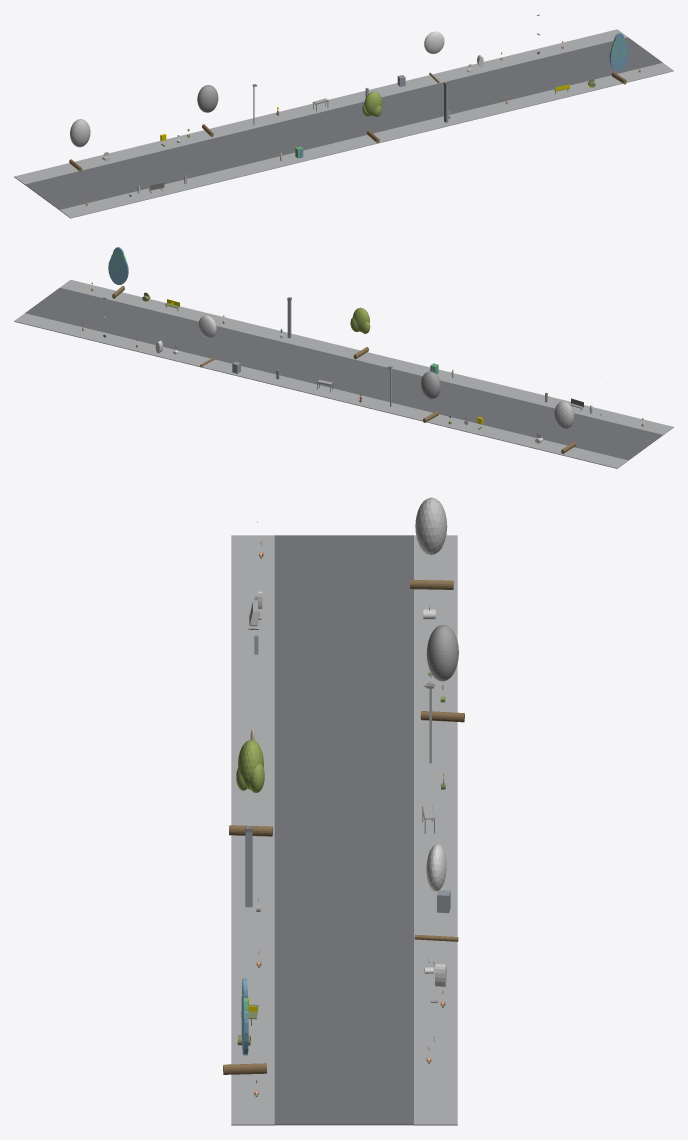
3 renders of one model, top to bottom at view 1: azimuth 30°, elevation 25°; view 2: azimuth 150°, elevation 25°; view 3: azimuth 270°, elevation 25°, orthographic. The views are drawn at different scales.
Parts seen in each view (by area): view 1: road_slab, sidewalk_left, sidewalk_right, inst_0016, inst_0013, inst_0012, inst_0014, inst_0015; view 2: road_slab, sidewalk_right, sidewalk_left, inst_0016, inst_0012, inst_0013, inst_0014, inst_0015; view 3: road_slab, sidewalk_left, sidewalk_right, inst_0012, inst_0013, inst_0014, inst_0016, inst_0015.
Part boxes in pixels (x1=…): road_slab: x1=25, y1=37, x2=662, y2=209; sidewalk_left: x1=59, y1=63, x2=673, y2=218; sidewalk_right: x1=14, y1=29, x2=627, y2=184; inst_0016: x1=609, y1=33, x2=628, y2=84; inst_0013: x1=197, y1=85, x2=218, y2=136; inst_0012: x1=69, y1=119, x2=90, y2=171; inst_0014: x1=362, y1=91, x2=382, y2=143; inst_0015: x1=424, y1=31, x2=444, y2=83; road_slab: x1=25, y1=288, x2=662, y2=460; sidewalk_right: x1=14, y1=313, x2=628, y2=468; sidewalk_left: x1=60, y1=279, x2=673, y2=435; inst_0016: x1=108, y1=247, x2=128, y2=298; inst_0012: x1=554, y1=401, x2=575, y2=453; inst_0013: x1=421, y1=371, x2=440, y2=422; inst_0014: x1=350, y1=307, x2=370, y2=359; inst_0015: x1=198, y1=315, x2=216, y2=366; road_slab: x1=274, y1=535, x2=413, y2=1125; sidewalk_left: x1=231, y1=535, x2=274, y2=1125; sidewalk_right: x1=414, y1=535, x2=457, y2=1125; inst_0012: x1=410, y1=497, x2=453, y2=589; inst_0013: x1=420, y1=625, x2=464, y2=722; inst_0014: x1=229, y1=739, x2=272, y2=836; inst_0016: x1=223, y1=978, x2=266, y2=1074; inst_0015: x1=414, y1=844, x2=458, y2=941.
Size of the model in its own units: 80 by 6.08 by 13.88.
